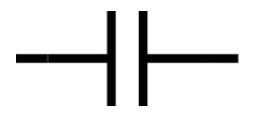Capacitor: (90, 8, 165, 107)
